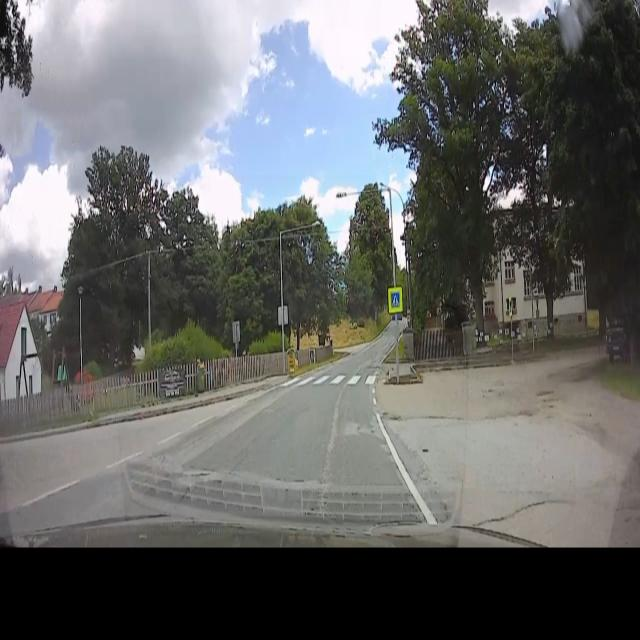Pedestrian crosswalk: (283, 367, 383, 391), (387, 283, 405, 316)
